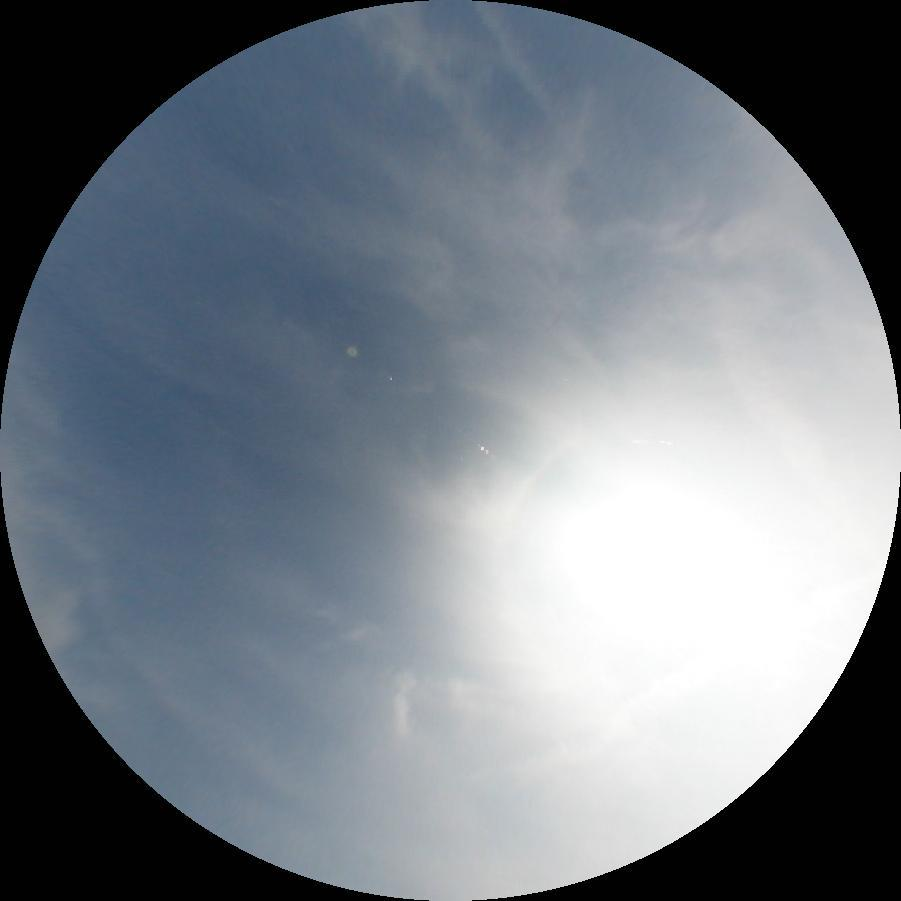contrail veryold: (468, 0, 554, 115)
sun: (562, 446, 819, 667)
